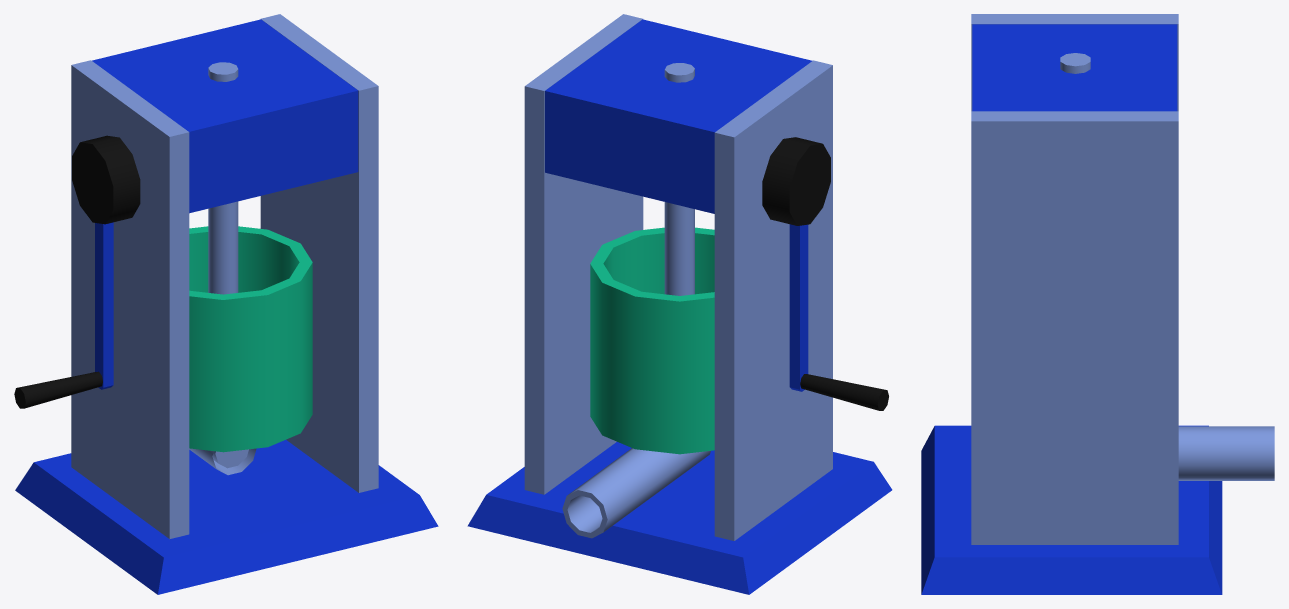
File: MayLamXucXich.FBX
3 renders of one model, left to right at view 1: azimuth 30°, elevation 25°; view 2: azimuth 150°, elevation 25°; view 3: azimuth 270°, elevation 25°, orthographic. The views are drawn at different scales.
Visible parts, largest first — view 1: Box196, MayLamXucXich, Cylinder036, Cylinder040; view 2: Box196, MayLamXucXich, Cylinder036, Cylinder040; view 3: Box196, MayLamXucXich.
Part boxes in pixels (bbox=[...]): Box196: bbox=[71, 14, 378, 538]; MayLamXucXich: bbox=[15, 19, 438, 594]; Cylinder036: bbox=[189, 226, 312, 452]; Cylinder040: bbox=[14, 135, 140, 408]; Box196: bbox=[524, 14, 832, 540]; MayLamXucXich: bbox=[467, 19, 892, 594]; Cylinder036: bbox=[590, 227, 714, 454]; Cylinder040: bbox=[762, 137, 888, 410]; Box196: bbox=[971, 14, 1274, 544]; MayLamXucXich: bbox=[921, 24, 1222, 594].
Bounding box in the file's own units: 1.43 × 1.74 × 1.21.
